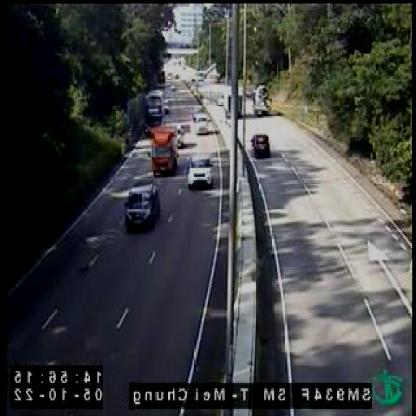Bus: (146, 88, 166, 134)
Car: (126, 178, 159, 230), (187, 152, 213, 189), (252, 133, 271, 158), (194, 111, 209, 132)
Truck: (152, 125, 177, 173), (253, 85, 273, 114)
